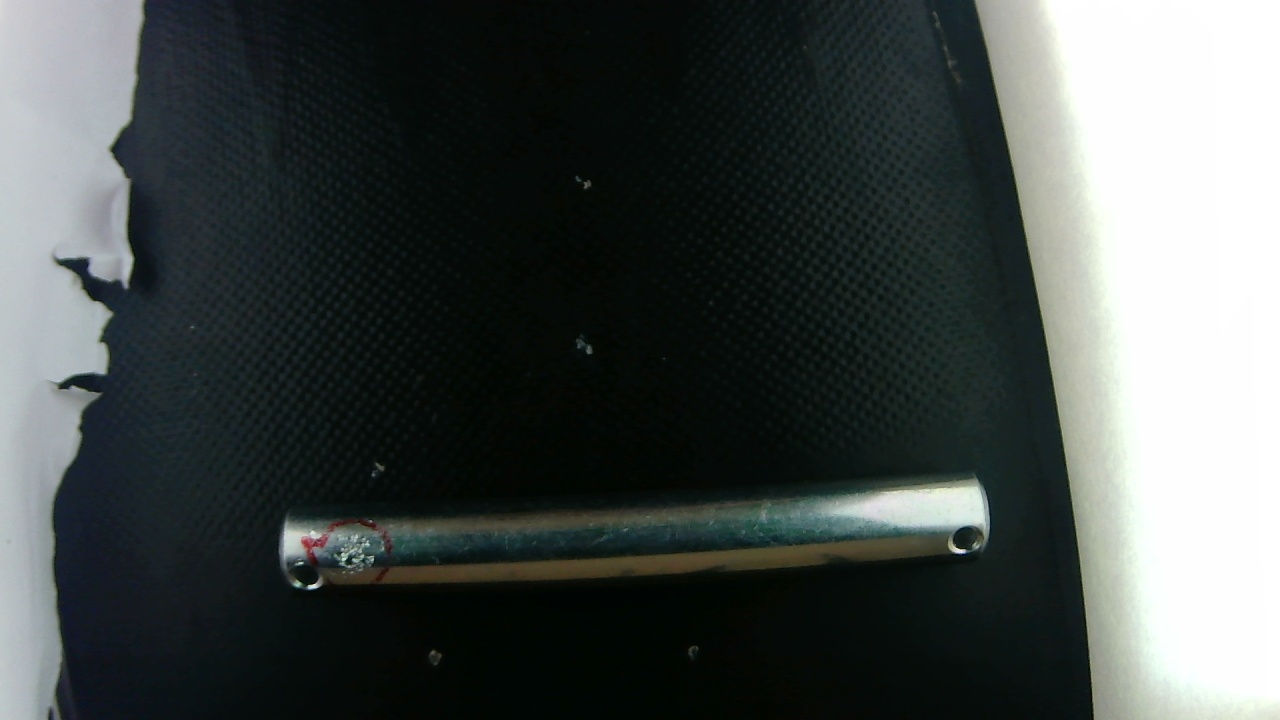pitmark_pin: (323, 524, 386, 581)
